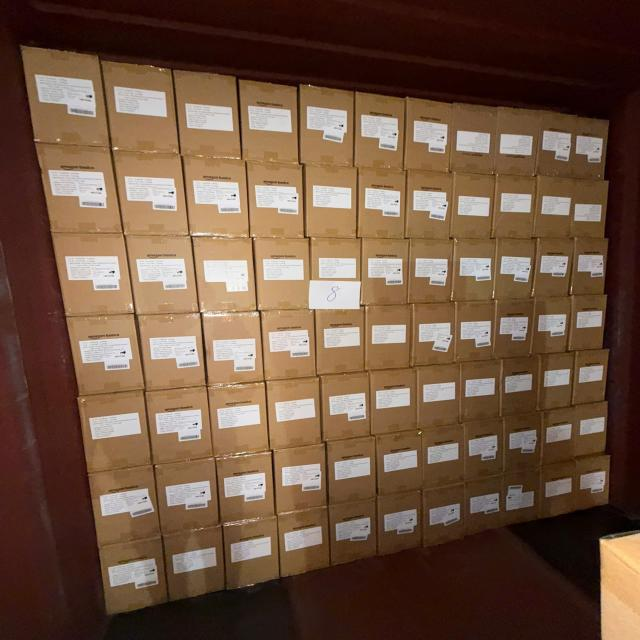Carton: (24, 43, 110, 145), (37, 145, 123, 235), (103, 61, 180, 156), (50, 233, 130, 320), (111, 149, 187, 235), (176, 70, 243, 162), (66, 316, 143, 396), (80, 392, 152, 474), (125, 234, 197, 315), (184, 159, 252, 242), (92, 465, 160, 546), (241, 79, 301, 166), (101, 537, 166, 617), (139, 312, 205, 389), (149, 388, 213, 466), (193, 235, 255, 312), (160, 456, 222, 532), (166, 528, 226, 606), (248, 164, 307, 243), (201, 312, 262, 387), (207, 384, 266, 460), (302, 85, 356, 167), (253, 238, 310, 312), (226, 519, 280, 595), (220, 453, 276, 526), (266, 378, 320, 453), (354, 90, 404, 170), (302, 167, 356, 241), (262, 312, 317, 383), (273, 444, 326, 516), (277, 507, 328, 581), (313, 239, 364, 312), (406, 97, 452, 173), (357, 171, 405, 243), (322, 370, 371, 440), (330, 498, 379, 566), (371, 365, 419, 434), (328, 438, 377, 505), (317, 309, 366, 375), (364, 306, 412, 373), (361, 240, 408, 308), (452, 104, 497, 175), (534, 108, 578, 180), (406, 170, 451, 240), (376, 430, 422, 496), (542, 405, 592, 465), (380, 492, 424, 560), (568, 114, 612, 182), (416, 365, 461, 431), (454, 171, 496, 241), (411, 301, 456, 366), (422, 482, 465, 549), (496, 107, 537, 177), (410, 240, 452, 306), (534, 175, 577, 239), (422, 426, 464, 491), (494, 175, 536, 240), (455, 239, 497, 303), (569, 178, 611, 239), (495, 238, 535, 301), (536, 460, 578, 520), (464, 362, 504, 424), (466, 474, 505, 536), (500, 356, 540, 416), (466, 420, 506, 480), (459, 302, 497, 364), (494, 301, 532, 361), (536, 239, 574, 298), (574, 454, 613, 511), (534, 296, 572, 354), (503, 472, 539, 532), (504, 411, 540, 468), (572, 295, 608, 352), (572, 401, 606, 461), (572, 348, 608, 404), (572, 238, 606, 297), (542, 350, 575, 408)
